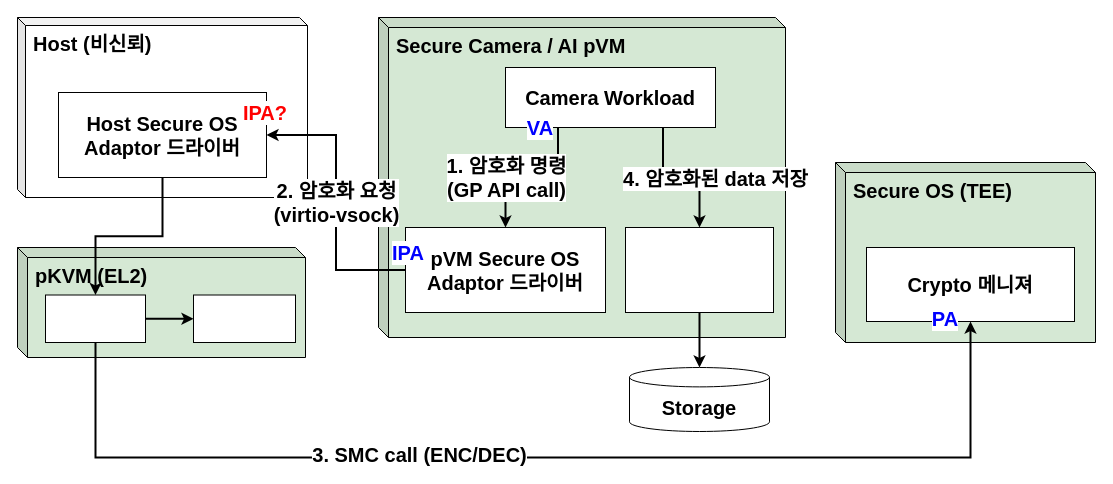
Some shapes in this 1113 by 484 pixel diagram are drawn without their labels. The shapes that lost their labels are listed below. From the top down, each one's centre as x and y in pixels, then its label:
point 699,269: virto-blk 드라이버
point 95,318: SMC Handler
point 244,318: IPA -> PA Converter
